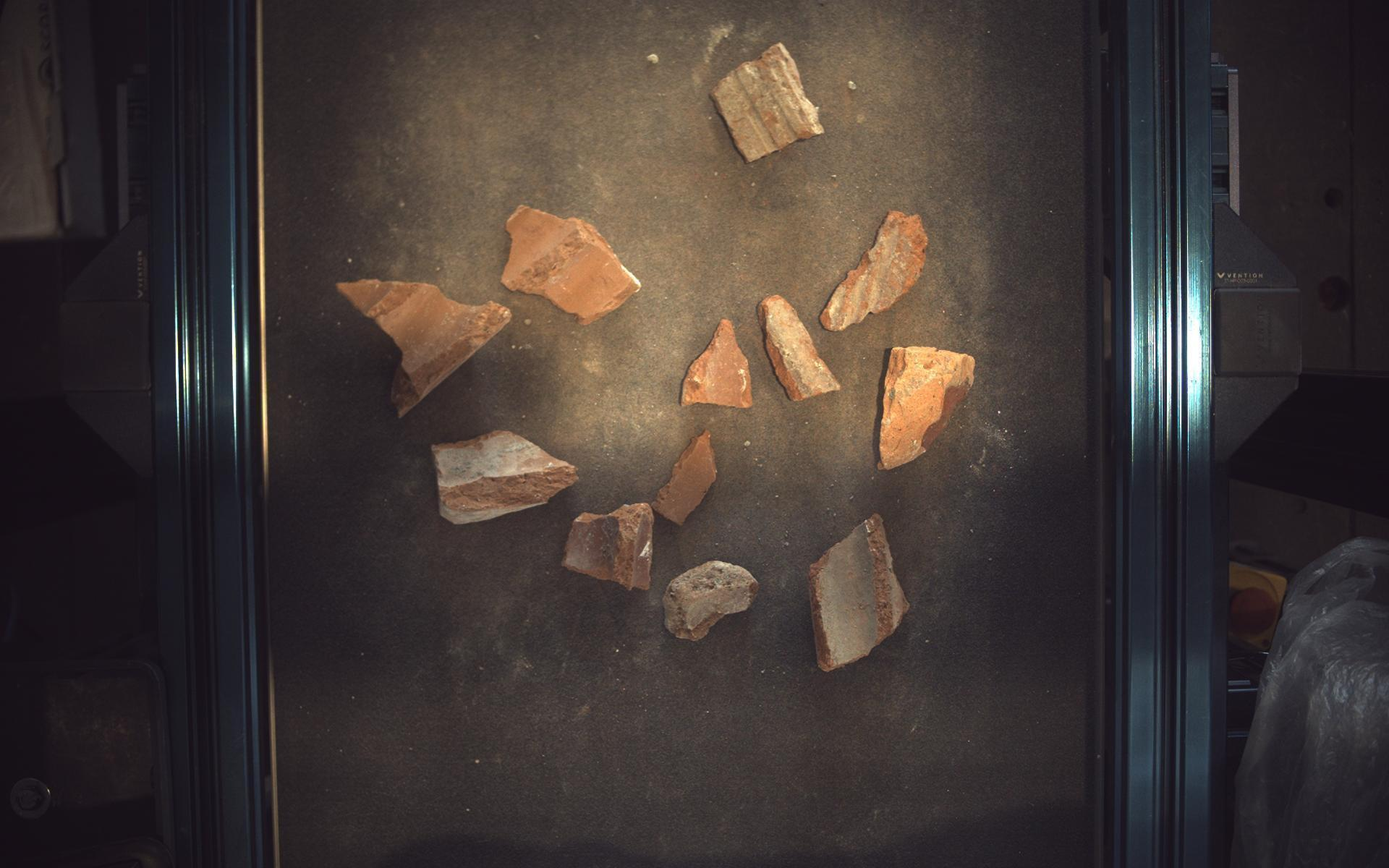brick: (337, 278, 511, 416), (501, 204, 641, 325), (810, 514, 912, 673), (431, 430, 578, 524), (712, 41, 825, 161), (822, 210, 930, 331), (880, 346, 977, 469), (760, 295, 842, 401), (563, 504, 655, 591), (663, 561, 761, 642), (681, 318, 754, 408), (653, 430, 718, 526)
